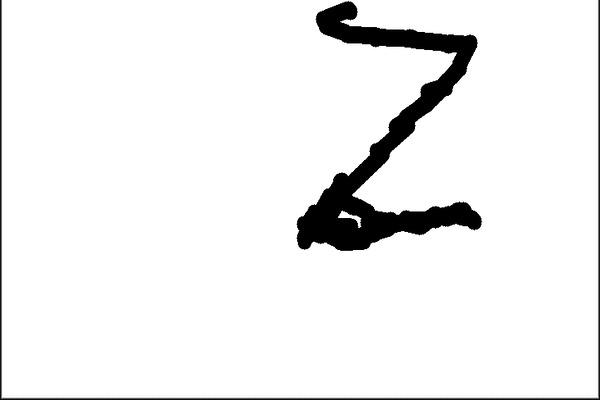Z: (287, 0, 504, 257)
